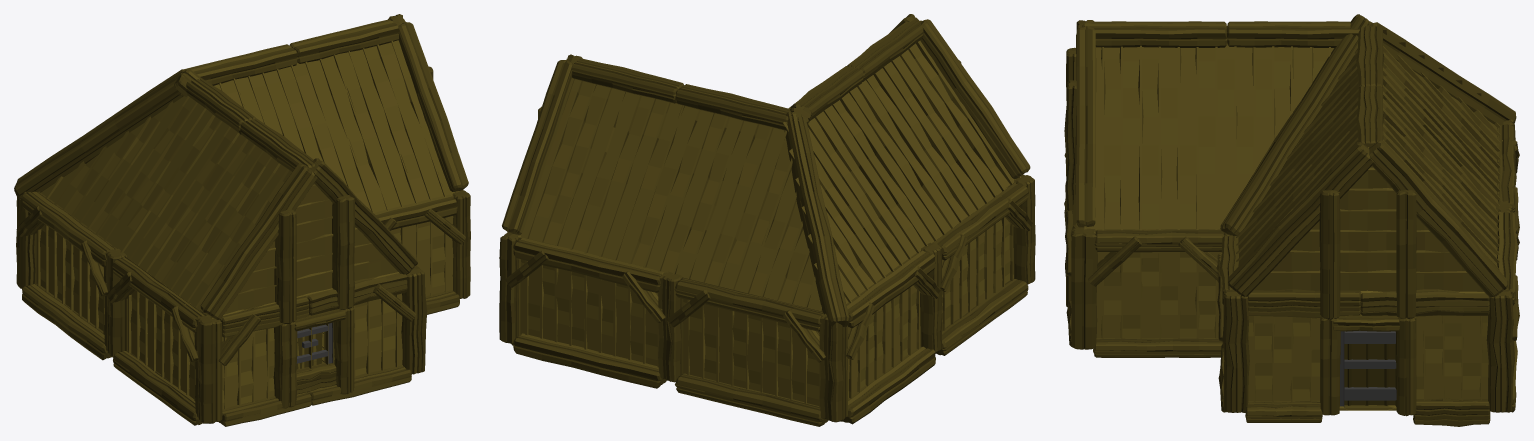
Rendered from InteriorCasaUno.fbx.
3 renders of one model, left to right at view 1: azimuth 30°, elevation 25°; view 2: azimuth 150°, elevation 25°; view 3: azimuth 270°, elevation 25°, orthographic. The views are drawn at different scales.
Parts seen in each view (by area): view 1: Estructura_de_la_Casa, Viga_Madera42, Viga_Madera40, Viga_Madera5, Viga_Madera15, Viga_Madera41, Viga_Madera36, Viga_Madera58, Viga_Madera29, Viga_Madera57, Viga_Madera37, Viga_Madera14 (+25 smaller); view 2: Estructura_de_la_Casa, Viga_Madera42, Viga_Madera4, Viga_Madera40, Viga_Madera34, Viga_Madera33, Viga_Madera32, Viga_Madera30, Viga_Madera16, Viga_Madera37, Viga_Madera29, Viga_Madera36 (+16 smaller); view 3: Estructura_de_la_Casa, Viga_Madera35, Viga_Madera5, Viga_Madera4, Viga_Madera41, Viga_Madera39, Viga_Madera38, Viga_Madera42, Viga_Madera1, Viga_Madera14, Viga_Madera, Viga_Madera2 (+22 smaller).
Boxes of the visible parts, x1,y1,x2,y2 form: Estructura_de_la_Casa: (36, 40, 459, 409); Viga_Madera42: (14, 69, 185, 199); Viga_Madera40: (200, 163, 317, 319); Viga_Madera5: (398, 22, 468, 191); Viga_Madera15: (194, 315, 222, 423); Viga_Madera41: (312, 158, 417, 274); Viga_Madera36: (289, 19, 399, 63); Viga_Madera58: (332, 195, 354, 309); Viga_Madera29: (22, 284, 112, 360); Viga_Madera57: (274, 209, 296, 324); Viga_Madera37: (183, 44, 297, 85); Viga_Madera14: (401, 266, 427, 374); Estructura_de_la_Casa: (519, 40, 1021, 406); Viga_Madera42: (784, 112, 849, 327); Viga_Madera4: (502, 60, 574, 234); Viga_Madera40: (920, 19, 1030, 179); Viga_Madera34: (513, 333, 666, 388); Viga_Madera33: (675, 373, 827, 426); Viga_Madera32: (513, 237, 664, 292); Viga_Madera30: (674, 278, 823, 331); Viga_Madera16: (819, 313, 848, 422); Viga_Madera37: (675, 84, 790, 130); Viga_Madera29: (841, 346, 935, 424); Viga_Madera36: (571, 58, 684, 103); Estructura_de_la_Casa: (1084, 30, 1500, 410); Viga_Madera35: (1220, 14, 1371, 235); Viga_Madera5: (1228, 142, 1373, 296); Viga_Madera4: (1369, 140, 1507, 297); Viga_Madera41: (1075, 26, 1096, 227); Viga_Madera39: (1082, 21, 1227, 47); Viga_Madera38: (1227, 21, 1359, 47); Viga_Madera42: (1369, 21, 1516, 125); Viga_Madera1: (1222, 289, 1249, 412); Viga_Madera14: (1071, 226, 1097, 349); Viga_Madera: (1486, 289, 1514, 412); Viga_Madera2: (1360, 289, 1489, 316).
Size of the model in its own units: 26.52 by 18.38 by 26.44.
